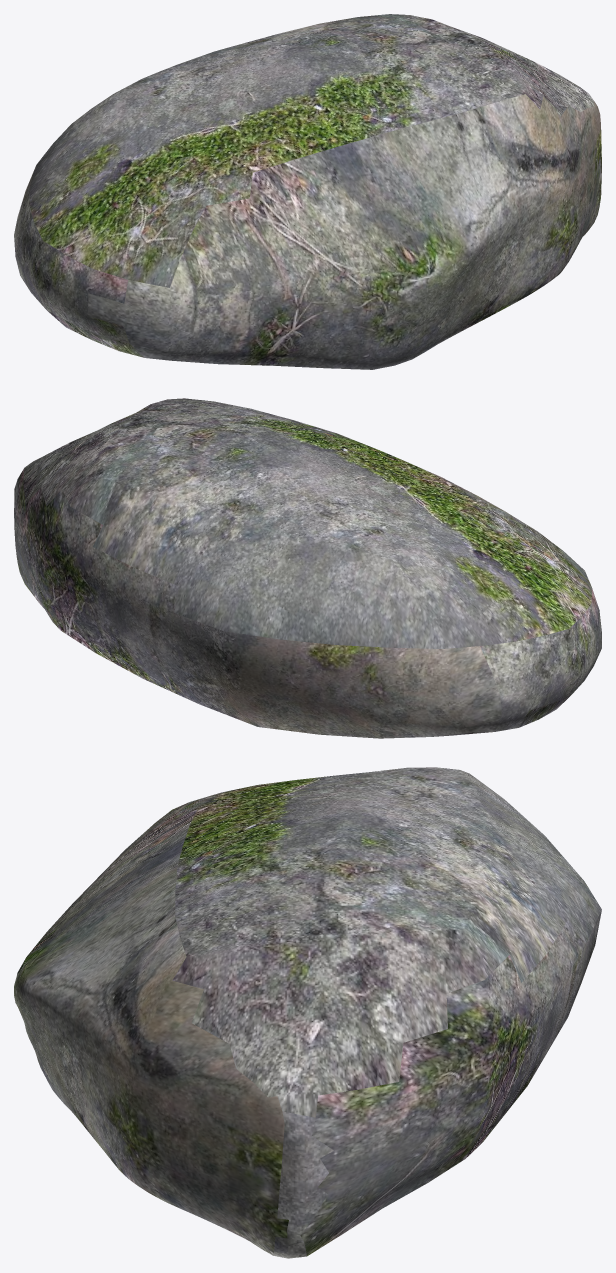
Rendered from mossyRock.fbx.
The picture shows the model from 3 angles, top to bottom: view 1: azimuth 30°, elevation 25°; view 2: azimuth 150°, elevation 25°; view 3: azimuth 270°, elevation 25°; orthographic projection. The views are drawn at different scales.
Parts seen in each view (by area): view 1: stone1; view 2: stone1; view 3: stone1.
Boxes of the visible parts, bbox=[...] form: stone1: bbox=[14, 14, 601, 369]; stone1: bbox=[14, 398, 601, 738]; stone1: bbox=[14, 767, 601, 1258].
Size of the model in its own units: 9.39 by 3.7 by 6.68.
1 material, 1 textured.
